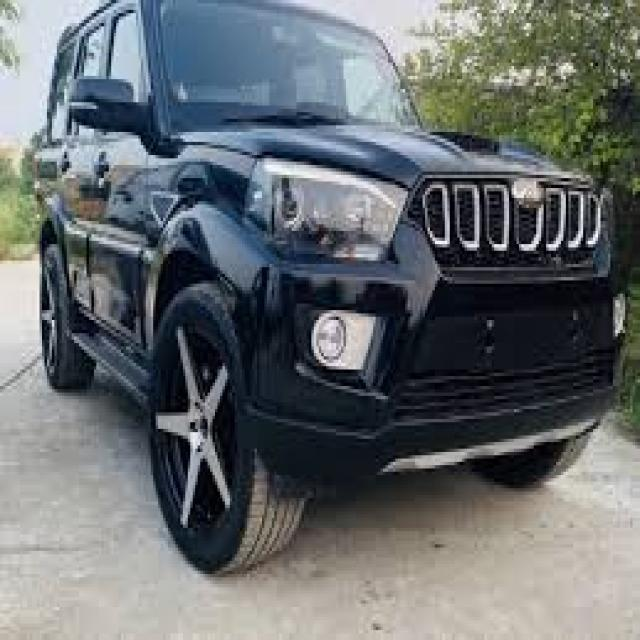cars: (24, 0, 632, 583)
